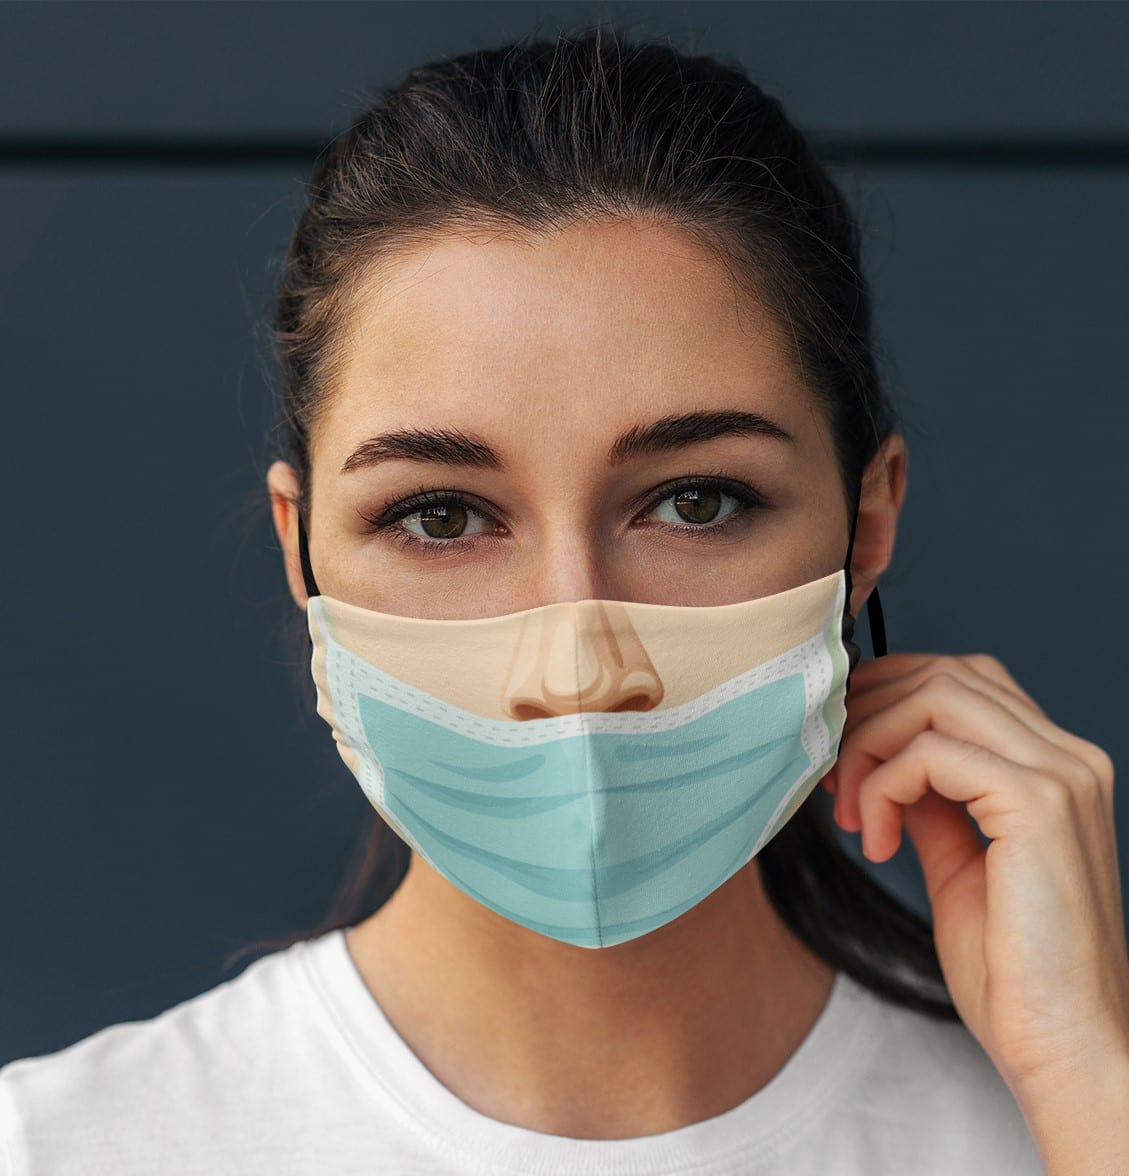with_mask: (361, 378, 786, 834)
